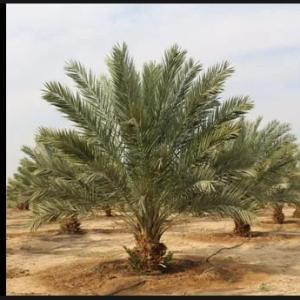palm tree: (11, 40, 299, 271)
